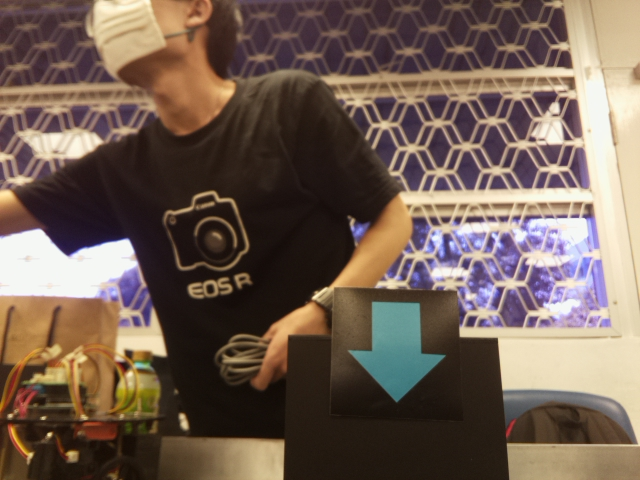down: (349, 286, 446, 412)
